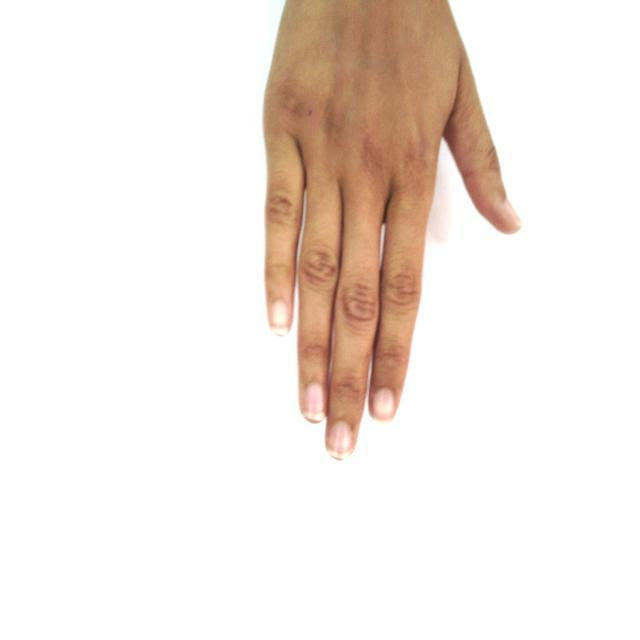Fingernail: (329, 423, 352, 459), (305, 383, 323, 422), (374, 390, 394, 419), (271, 302, 289, 333), (505, 202, 520, 225)
